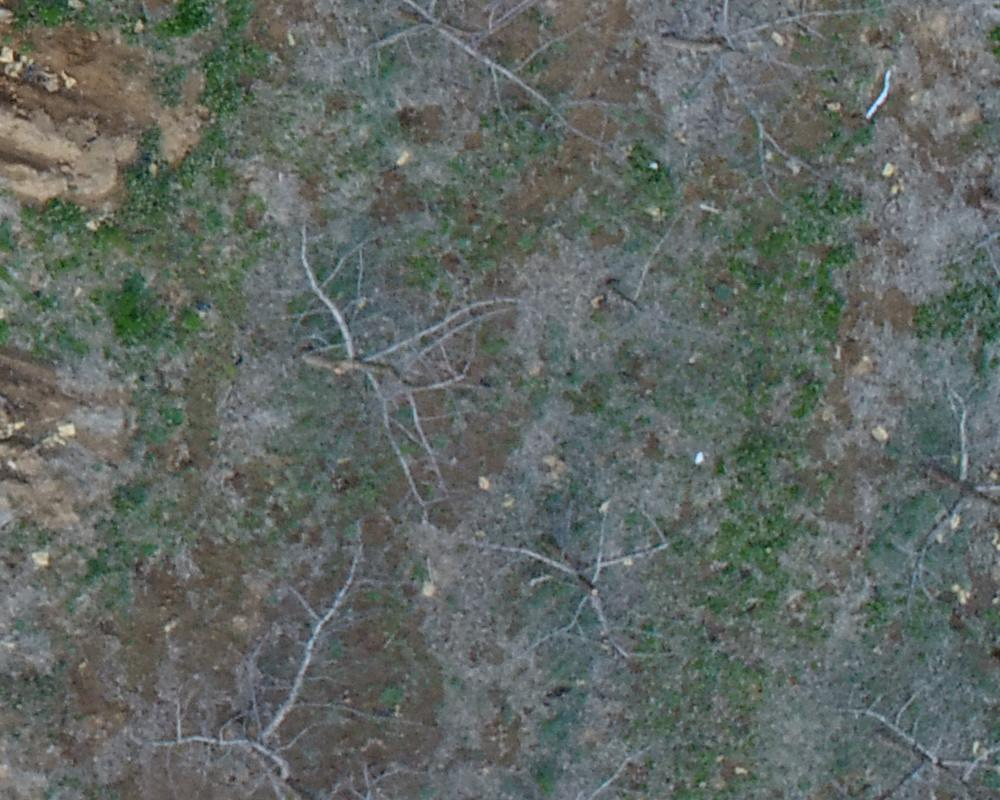apple: (291, 222, 527, 520), (136, 532, 397, 790), (451, 501, 683, 679), (847, 381, 990, 669), (346, 10, 619, 151), (644, 10, 905, 133)
